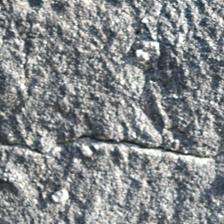Crack: (2, 63, 220, 111)
